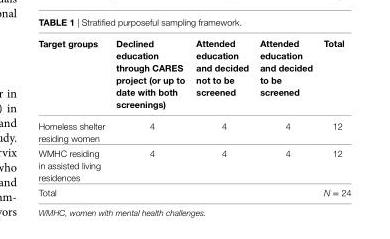table: (37, 37, 350, 199)
table column: (109, 37, 189, 199), (37, 37, 109, 199), (189, 37, 253, 199), (253, 37, 317, 199), (317, 37, 350, 199)
table column header: (37, 37, 350, 114)
table row: (37, 37, 350, 114), (37, 145, 350, 184), (37, 114, 350, 145), (37, 184, 350, 199)
